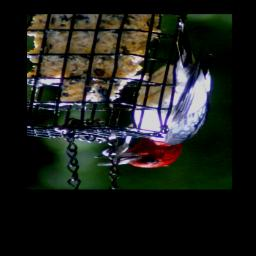Woodpecker: (91, 15, 215, 170)
